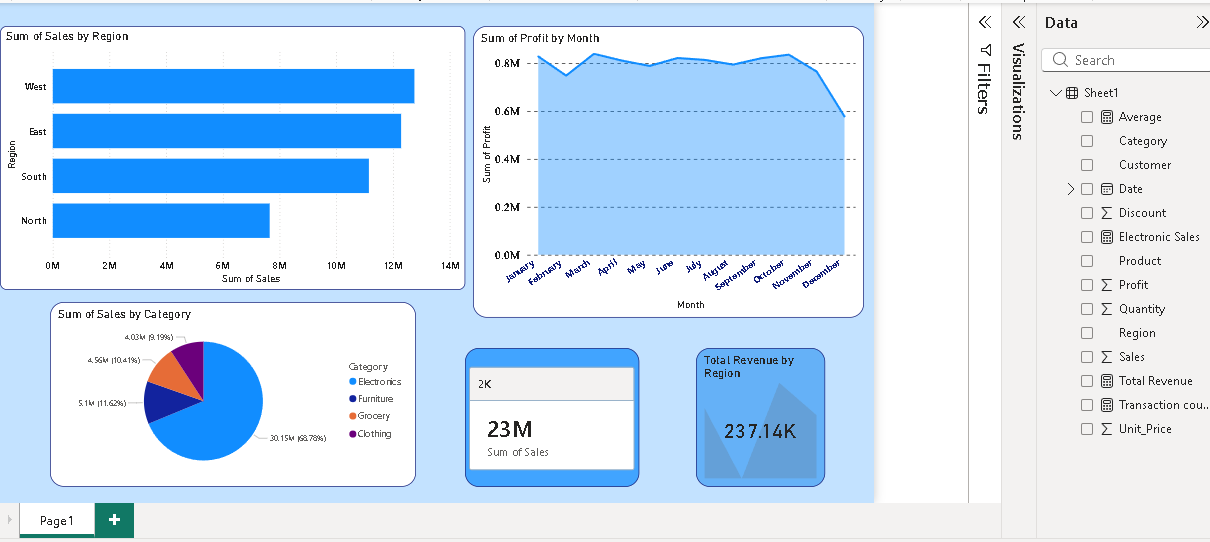

The dashboard page shown, as its layout file describes it:
{"tool":"powerbi","page":{"name":"Page 1","canvas":[1280,720],"ordinal":0},"visuals":[{"type":"cardVisual","fields":{"Data":["Sum(Sheet1.Sales)"],"Rows":["Sheet1.Date.Variation.Date Hierarchy.Year"]},"box":[689.8,496.8,250.6,200.2],"z":0},{"type":"lineChart","fields":{"Category":["Sheet1.Date.Variation.Date Hierarchy.Month"],"Y":["Sum(Sheet1.Profit)"]},"box":[701.3,33.1,563,420.5],"z":1000},{"type":"pieChart","fields":{"Category":["Sheet1.Category"],"Y":["Sum(Sheet1.Sales)"]},"box":[92.2,430.6,527,266.4],"z":2000},{"type":"clusteredBarChart","fields":{"Y":["Sum(Sheet1.Sales)"],"Category":["Sheet1.Region"]},"box":[20.2,33.1,669.6,380.2],"z":3000},{"type":"kpi","fields":{"Indicator":["Sheet1.Total Revenue"],"TrendLine":["Sheet1.Region"]},"box":[1022.4,496.8,185.8,200.2],"z":4000}]}

Visuals, with their boxes on the page's 1280x720 design canvas (x1, y1, x2, y2). These are canvas units, not pixel positions in the 1210x542 screenshot, which may show the page scaled, cropped or inside an application window:
cardVisual - Sum(Sheet1.Sales) x Sheet1.Date.Variation.Date Hierarchy.Year: rect(690, 497, 940, 697)
lineChart - Sheet1.Date.Variation.Date Hierarchy.Month x Sum(Sheet1.Profit): rect(701, 33, 1264, 454)
pieChart - Sheet1.Category x Sum(Sheet1.Sales): rect(92, 431, 619, 697)
clusteredBarChart - Sum(Sheet1.Sales) x Sheet1.Region: rect(20, 33, 690, 413)
kpi - Sheet1.Total Revenue x Sheet1.Region: rect(1022, 497, 1208, 697)
